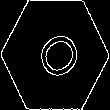O_SW: (27, 24, 83, 86)
